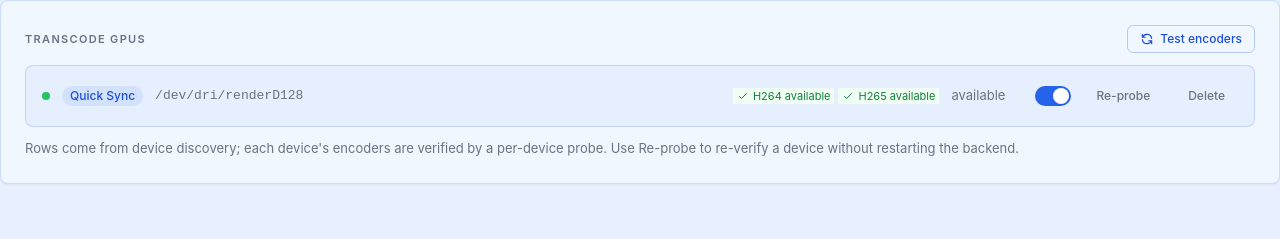
GpusCard › a 409 probe response shows its detail
This screenshot has width=1280, height=239.
What coordinates should you click on to do the following:
click the button with aria-label "Re-probe qsv"
I would click on:
 (1123, 96)
Its box is [1083,82,1163,110].
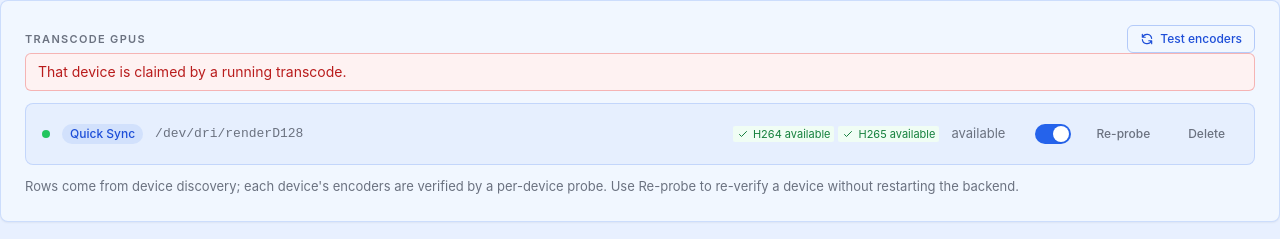
Expected: the message reads "That device is claimed by a running transcode.", [38,63,346,80]
